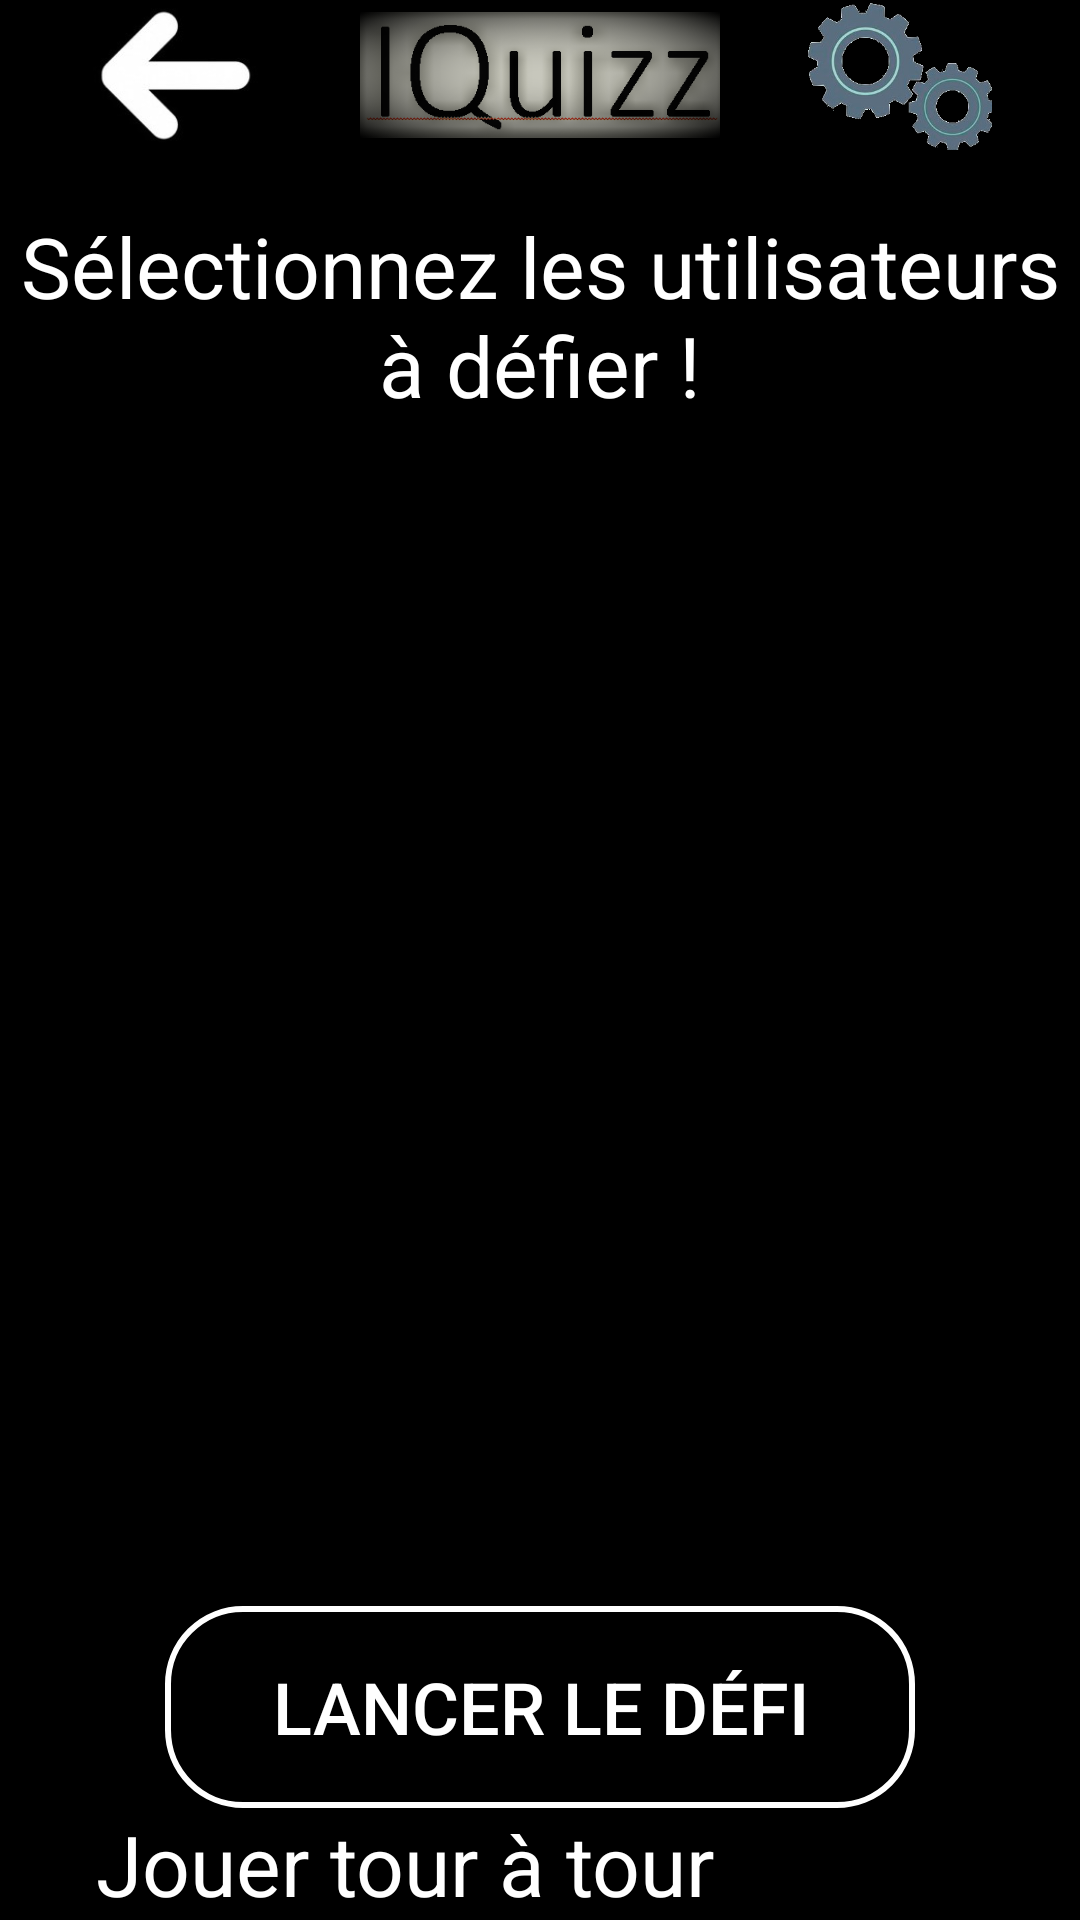

Screen size 1080*1920. Icon name, then its center in pixels as point (x, y):
engrenages: point (900, 76)
fleche retour: point (176, 75)
